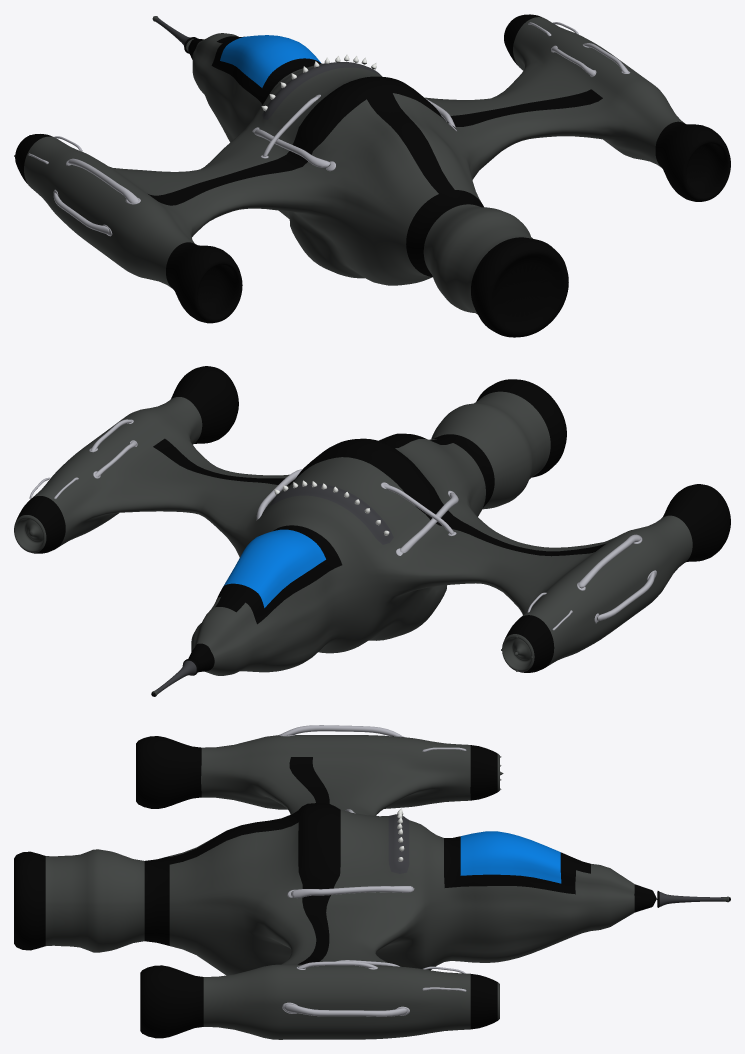
File: SPACESHIP.glb
3 views of the same model, one above another, from view 1: azimuth 30°, elevation 25°; view 2: azimuth 150°, elevation 25°; view 3: azimuth 270°, elevation 25° (orthographic). The views are drawn at different scales.
Visible parts, largest first — view 1: SpaceShipBody; view 2: SpaceShipBody; view 3: SpaceShipBody.
Part boxes in pixels (x1,y1,x2,y2): SpaceShipBody: (14,14,730,337); SpaceShipBody: (14,366,730,696); SpaceShipBody: (14,725,730,1039).
Size of the model in its own units: 2.19 by 0.7076 by 2.51.
